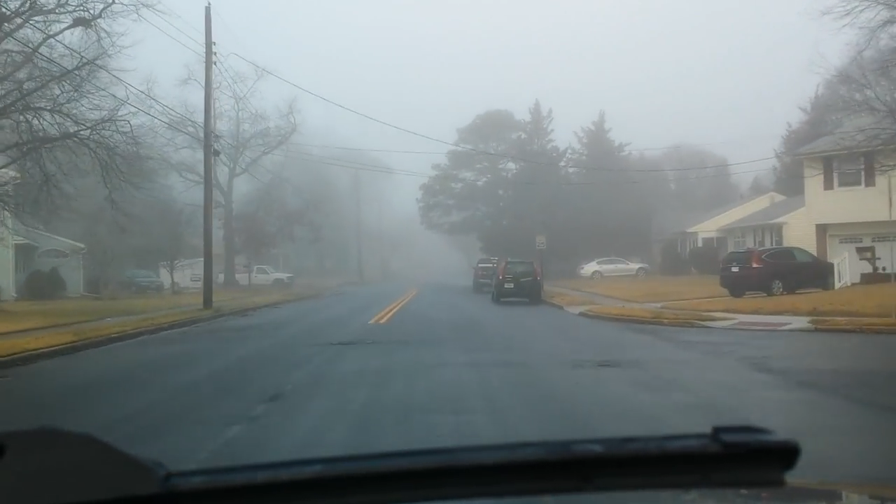car: (719, 244, 838, 298), (490, 256, 544, 306), (215, 261, 295, 294), (577, 254, 651, 280), (115, 269, 166, 297), (470, 255, 508, 292)
